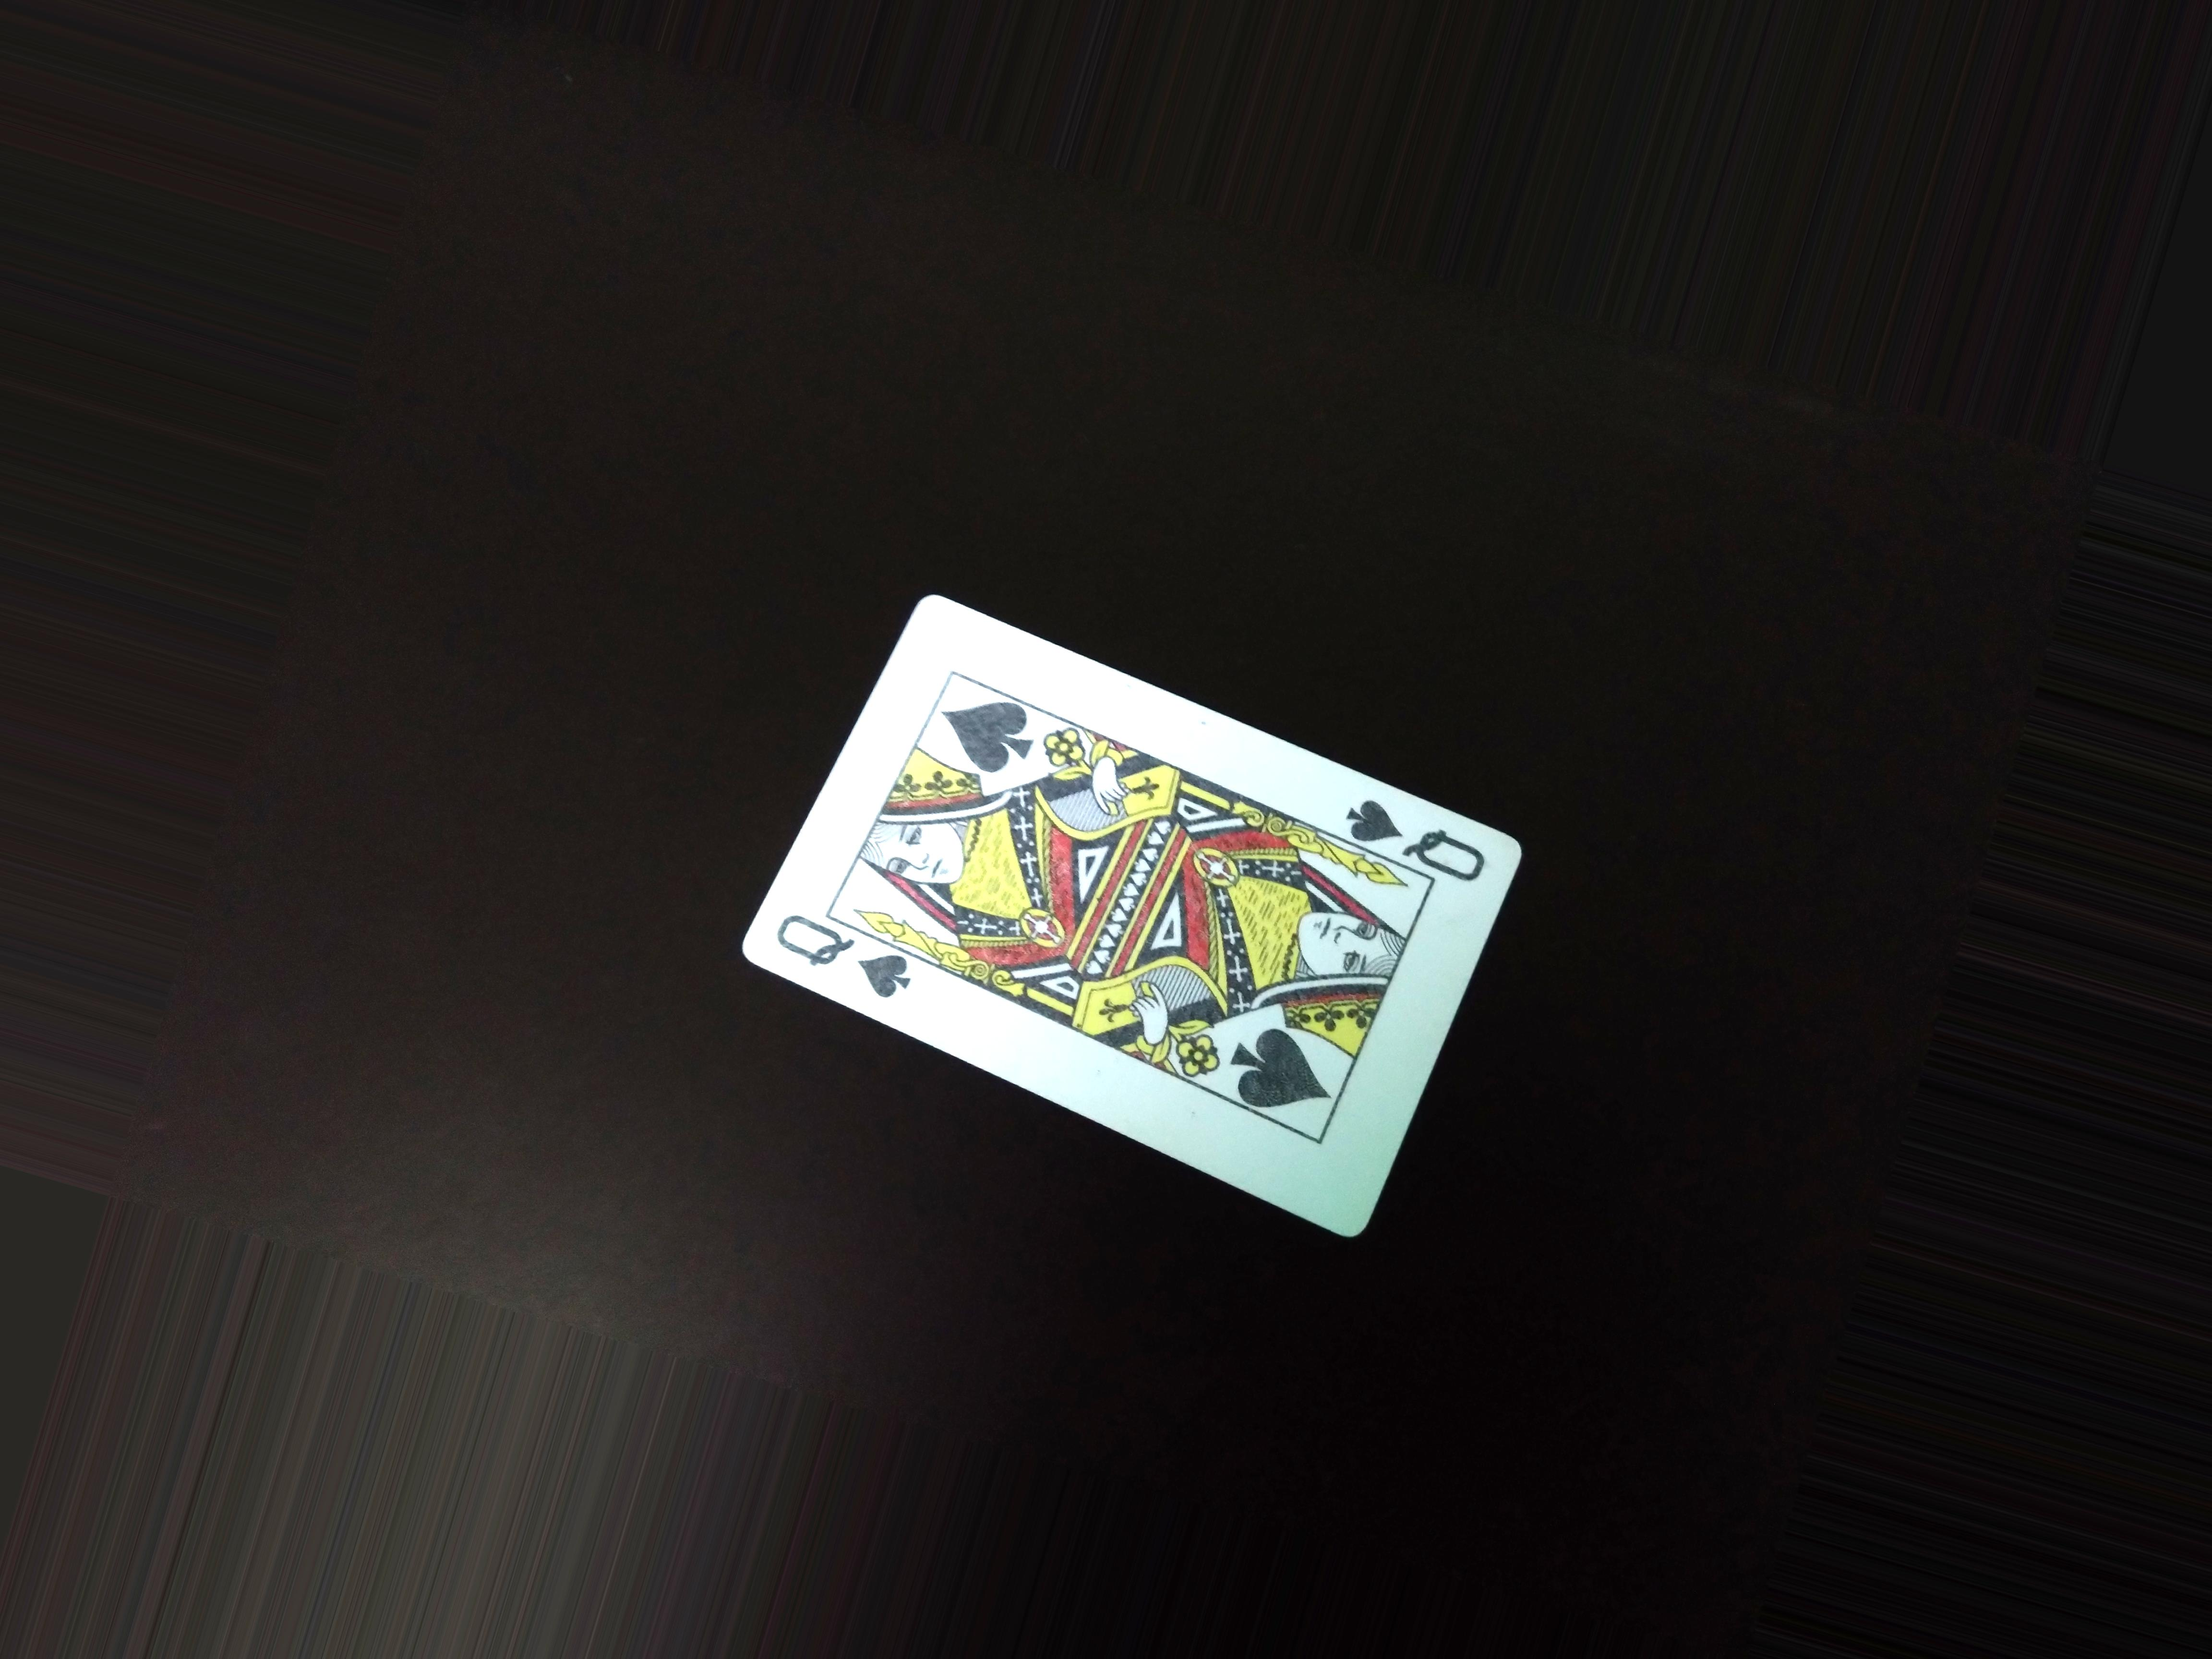QS: (761, 915, 913, 1002)
